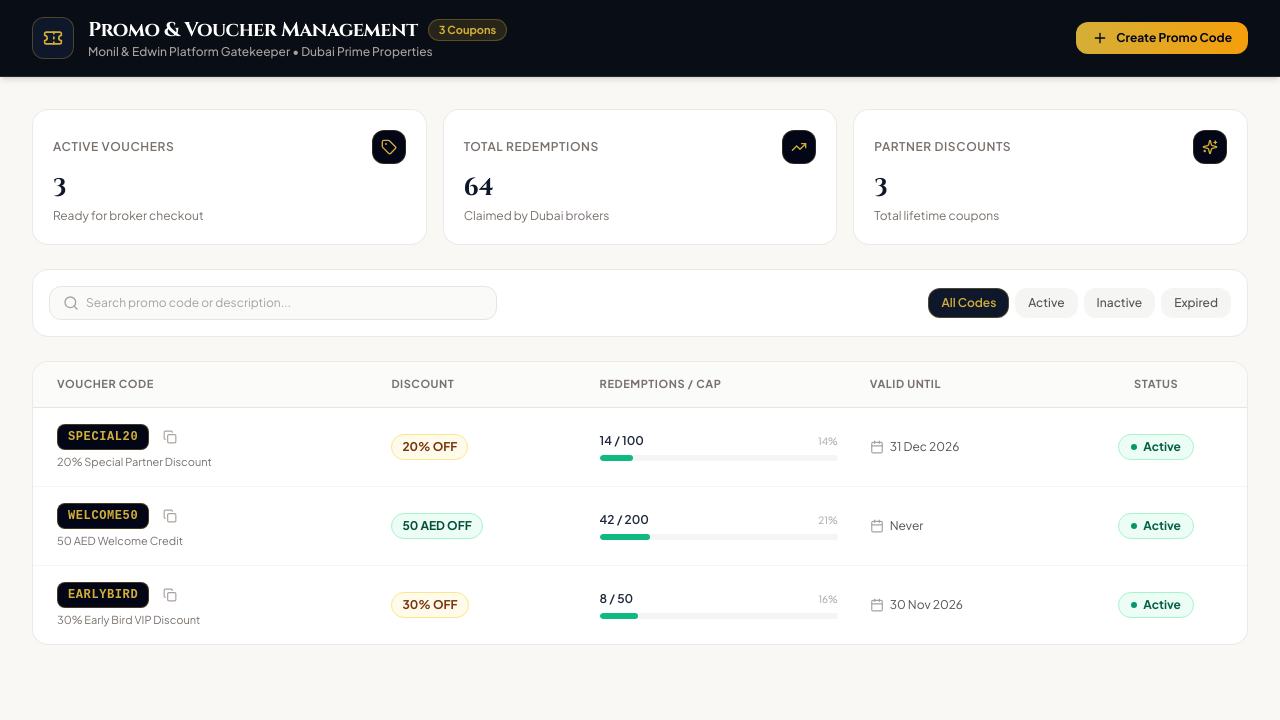
Scenario: AdminPromos Component › creates a fixed AED discount promo when AED discount type is selected
Click the button "Create Promo Code" at x=1162, y=38, box [1076,22,1248,54]
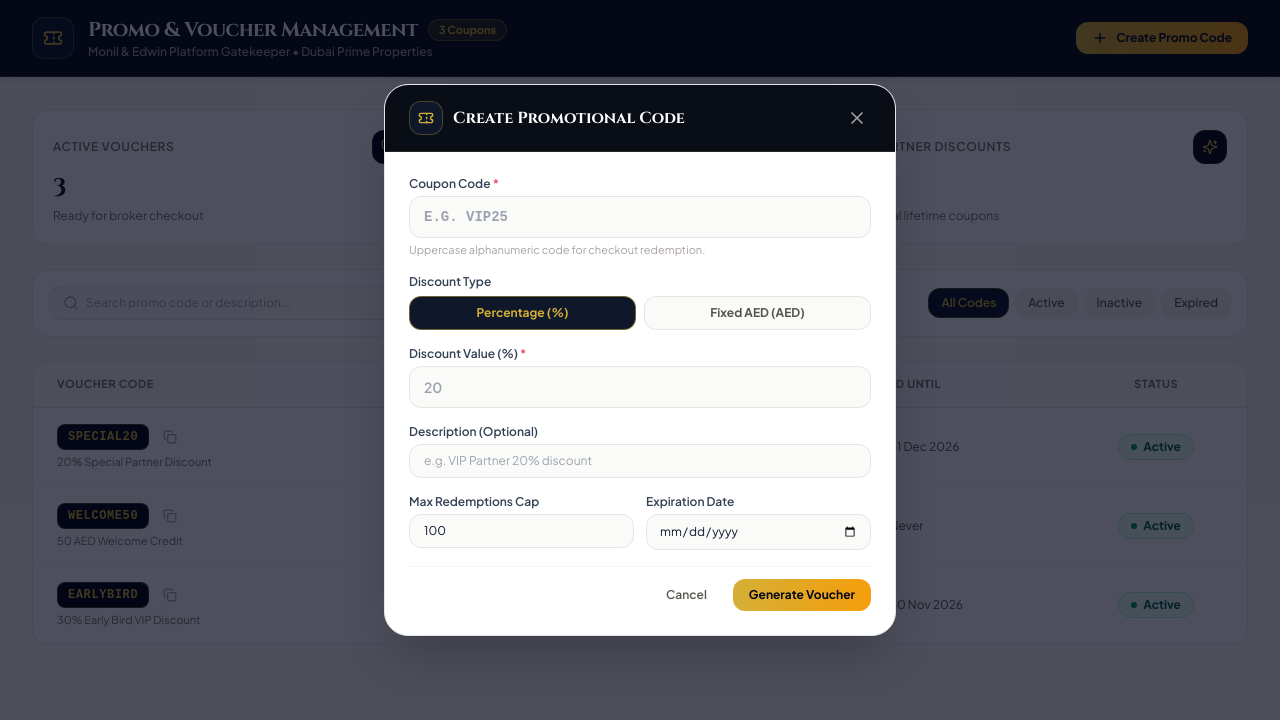
// Switch to AED discount type
Click the button "Fixed AED (AED)" at x=758, y=313, box [644,296,871,330]
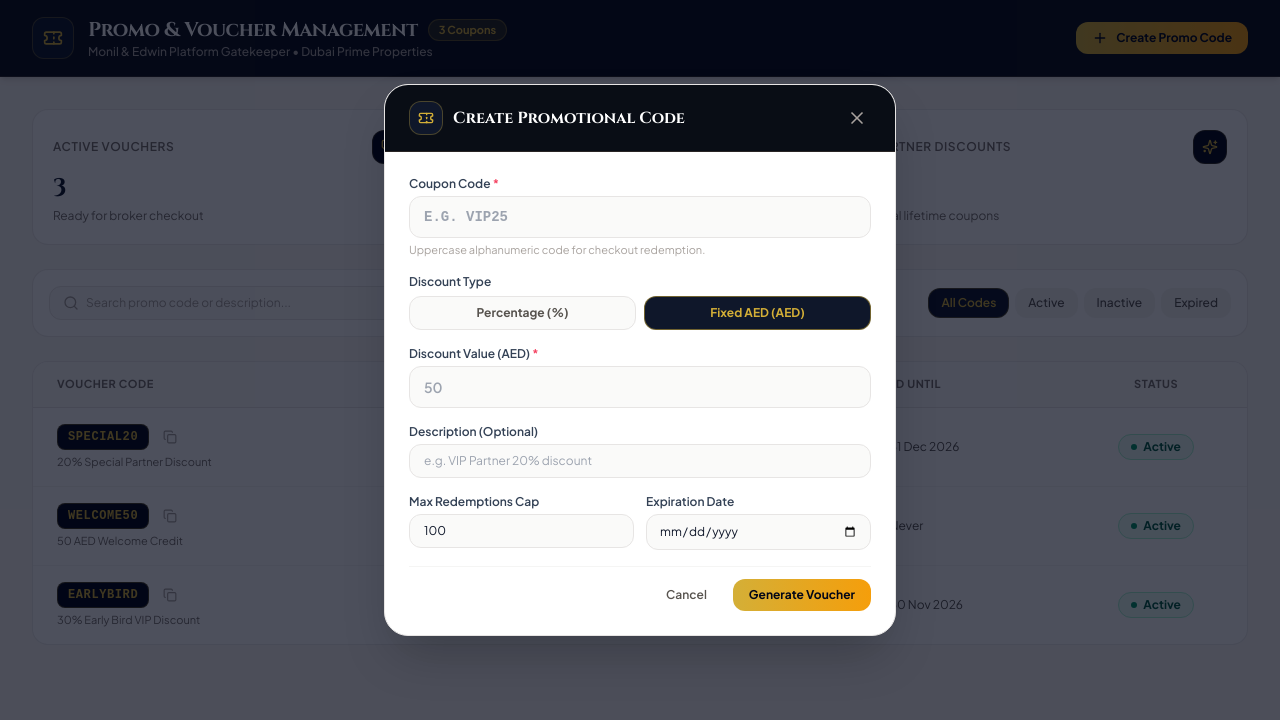
// Code & Value
Type "VIP75AED" into the field labelled "Coupon Code *" at x=640, y=217, box [409,196,871,238]
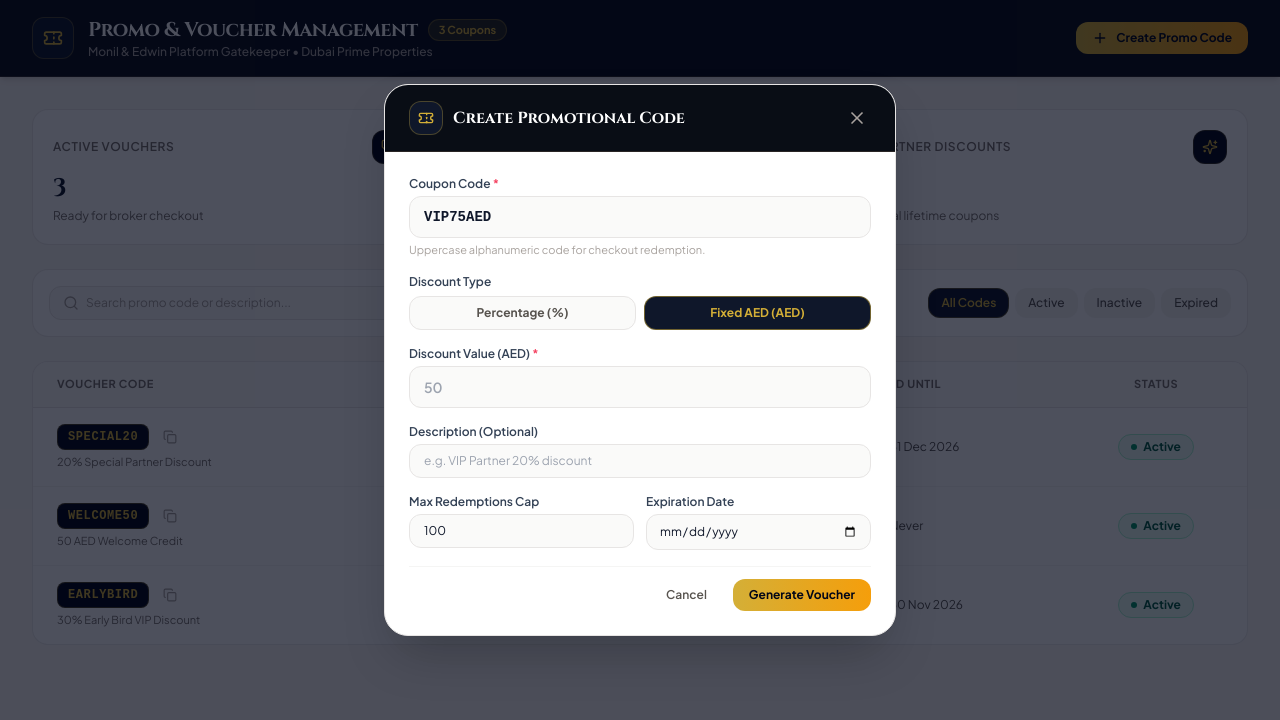
Type "75" into the number field labelled "Discount Value (AED) *" at x=640, y=387, box [409,366,871,408]
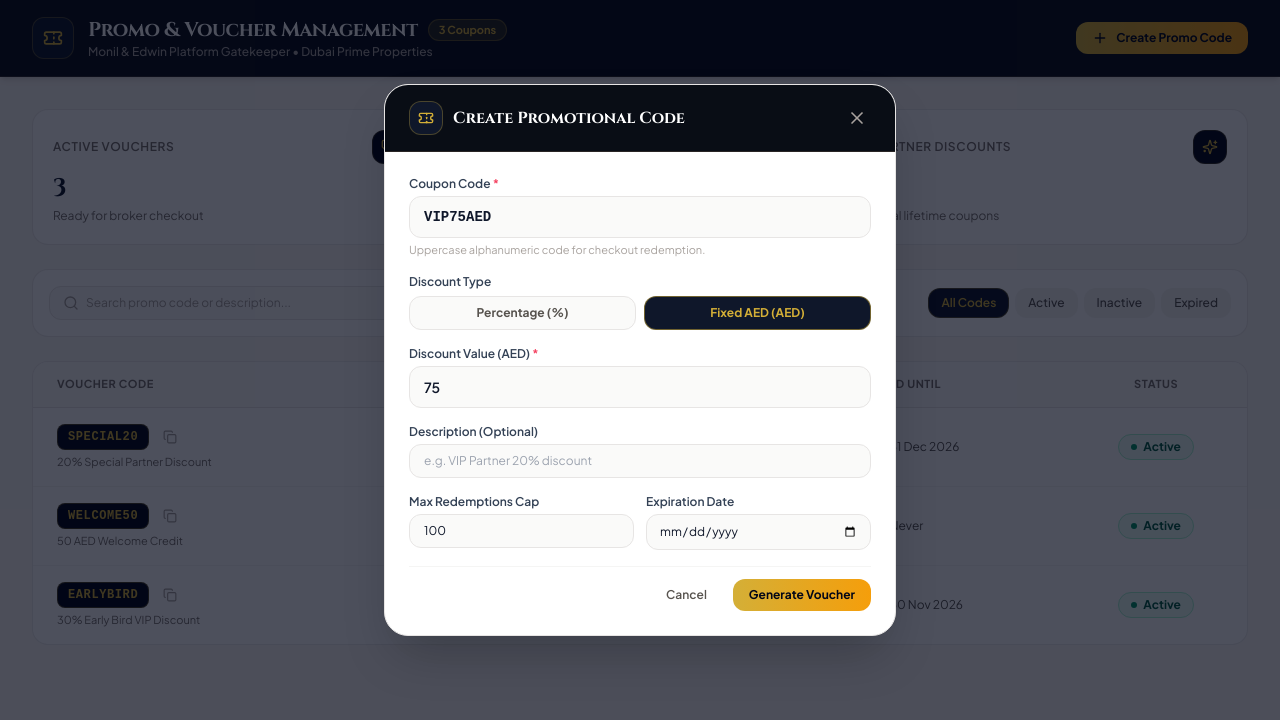
Click the button "Generate Voucher" at x=802, y=595, box [733,579,871,611]
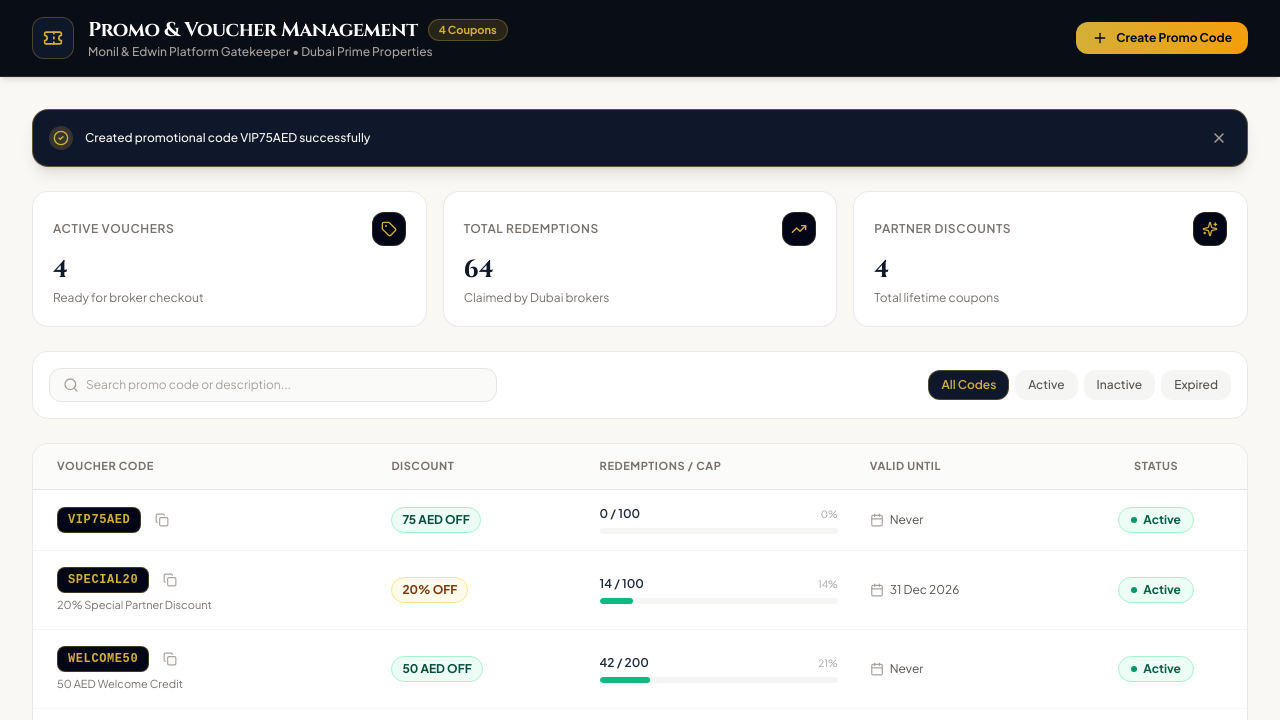
Check: the text "VIP75AED" is shown, box [57,506,141,532]
Check: the text "75 AED OFF" is shown, box [402,512,470,528]
